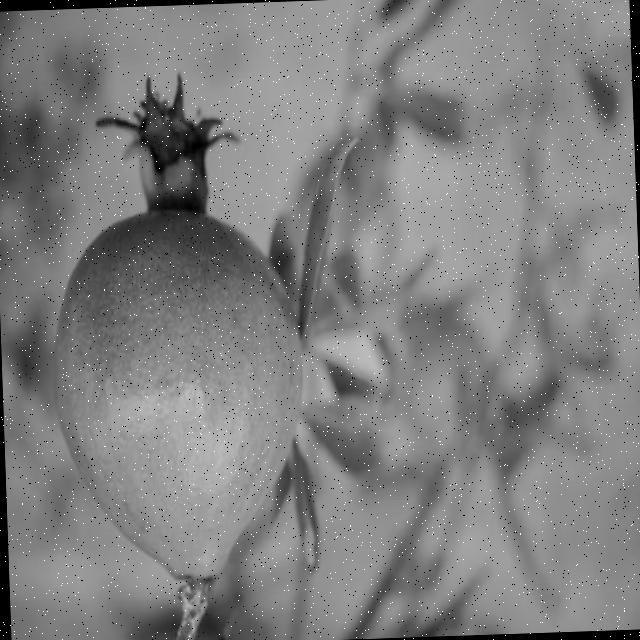Unripe: (42, 76, 309, 598)
